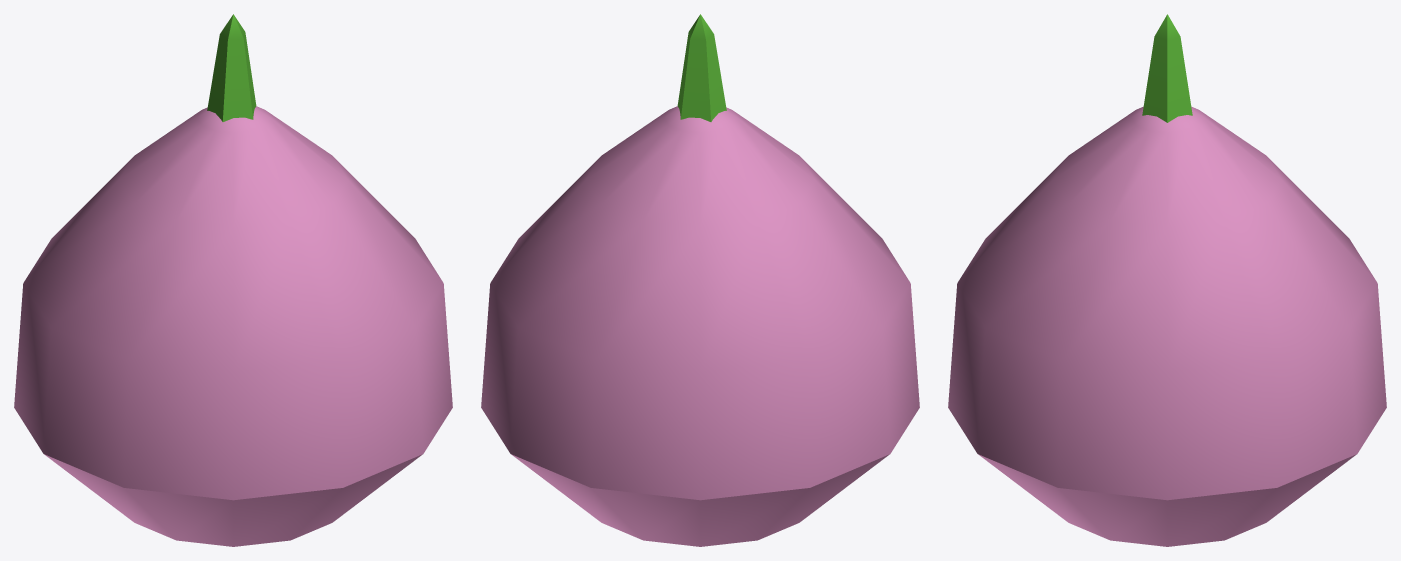
Rendered from Onion.fbx.
3 renders of one model, left to right at view 1: azimuth 30°, elevation 25°; view 2: azimuth 150°, elevation 25°; view 3: azimuth 270°, elevation 25°, orthographic.
Visible parts, largest first — view 1: Onion; view 2: Onion; view 3: Onion.
Part boxes in pixels (left/top/right/bottom): Onion: left=14, top=14, right=452, bottom=546; Onion: left=481, top=14, right=919, bottom=546; Onion: left=948, top=14, right=1386, bottom=546.
Bounding box in the file's own units: 0.96 × 1.2 × 0.96.
1 material, 1 textured.
